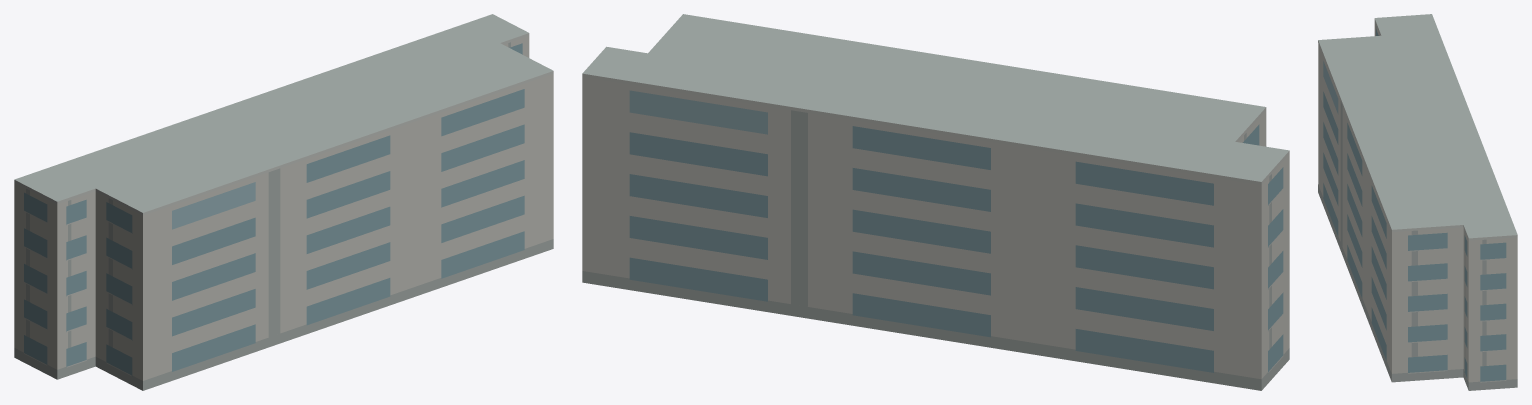
The model's file is residential-392efce8-c3cc-4ac7-ad21-37e2d180cfb9.glb.
The picture shows the model from 3 angles, left to right: view 1: azimuth 30°, elevation 25°; view 2: azimuth 150°, elevation 25°; view 3: azimuth 270°, elevation 25°; orthographic projection. The views are drawn at different scales.
Parts seen in each view (by area): view 1: residential-392efce8-c3cc-4ac7-ad21-37e2d180cfb9.tmp; view 2: residential-392efce8-c3cc-4ac7-ad21-37e2d180cfb9.tmp; view 3: residential-392efce8-c3cc-4ac7-ad21-37e2d180cfb9.tmp.
Boxes of the visible parts, <box> form: residential-392efce8-c3cc-4ac7-ad21-37e2d180cfb9.tmp: <box>14,14,553,390</box>; residential-392efce8-c3cc-4ac7-ad21-37e2d180cfb9.tmp: <box>582,14,1289,390</box>; residential-392efce8-c3cc-4ac7-ad21-37e2d180cfb9.tmp: <box>1318,14,1517,390</box>.
Size of the model in its own units: 48.13 by 15.25 by 18.1.
